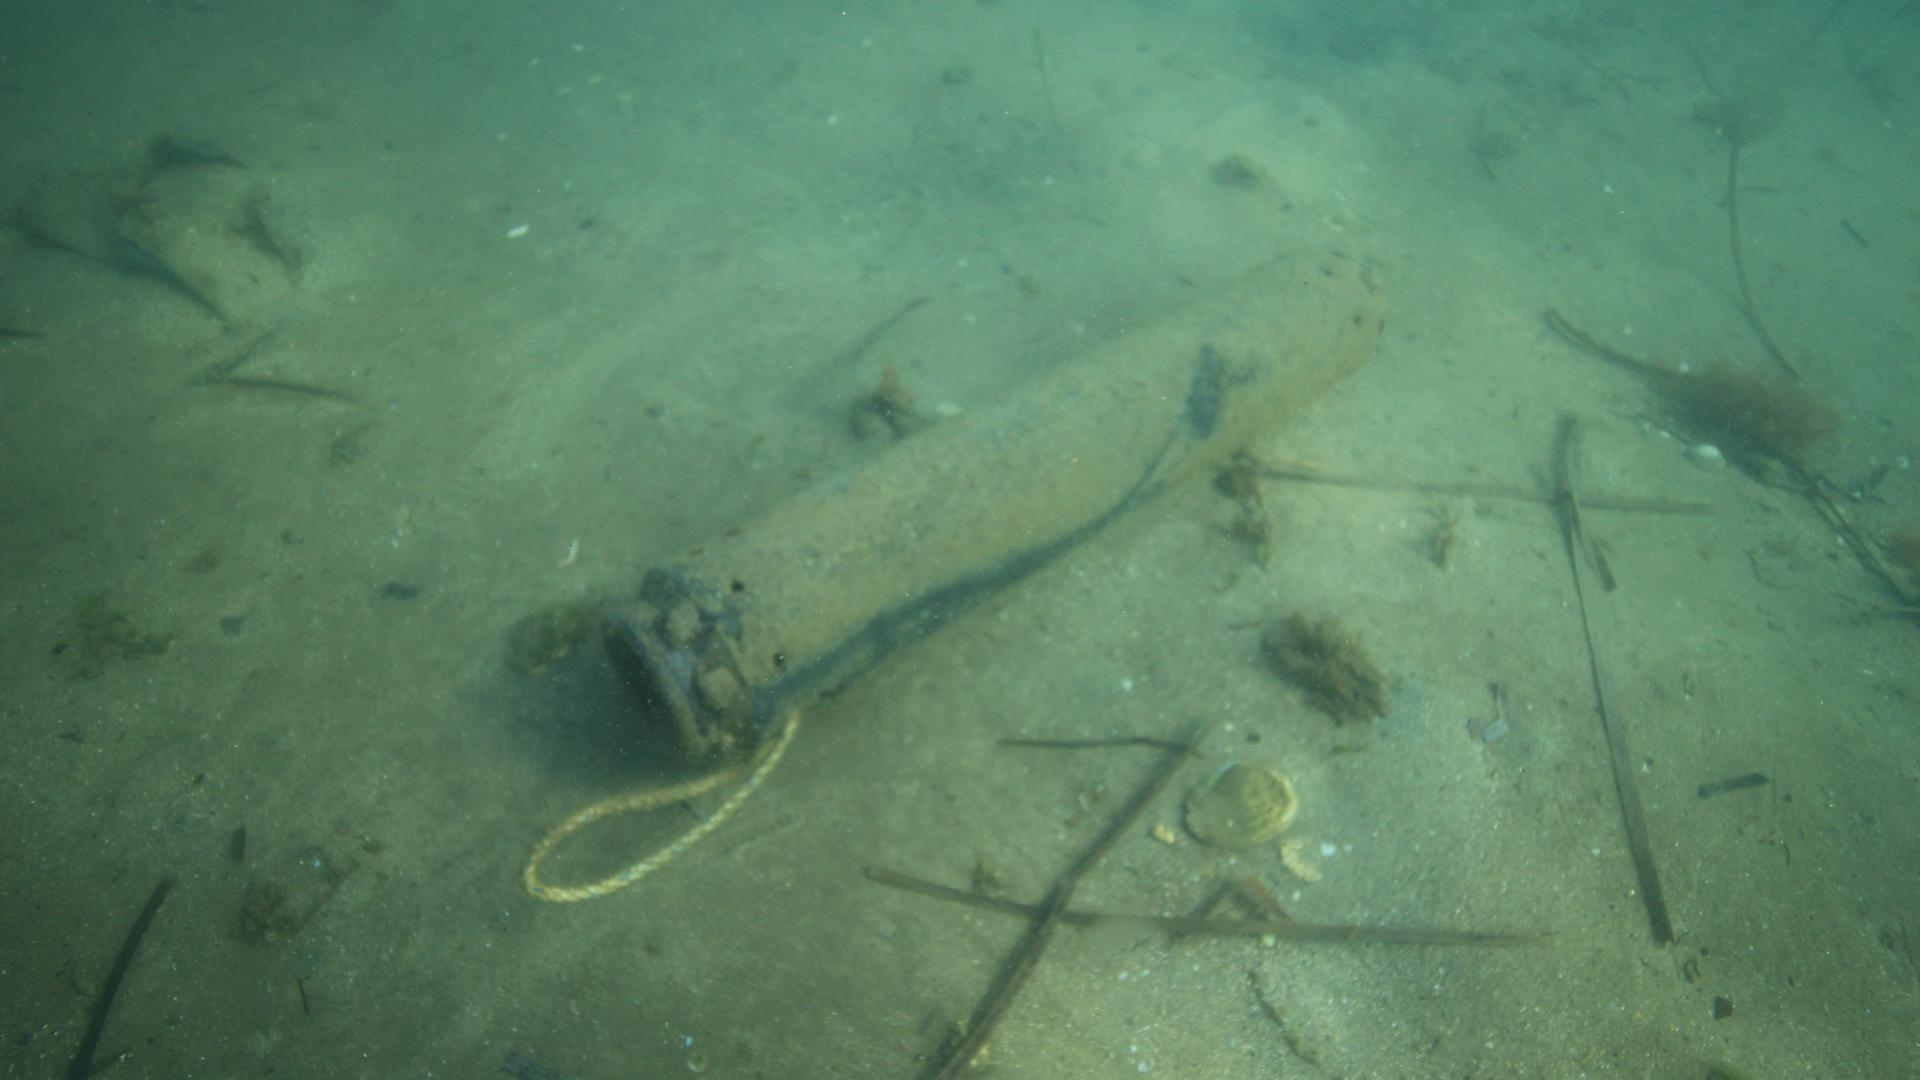bundle of ropes: (516, 709, 800, 905)
eel fish trap: (597, 243, 1389, 760)
